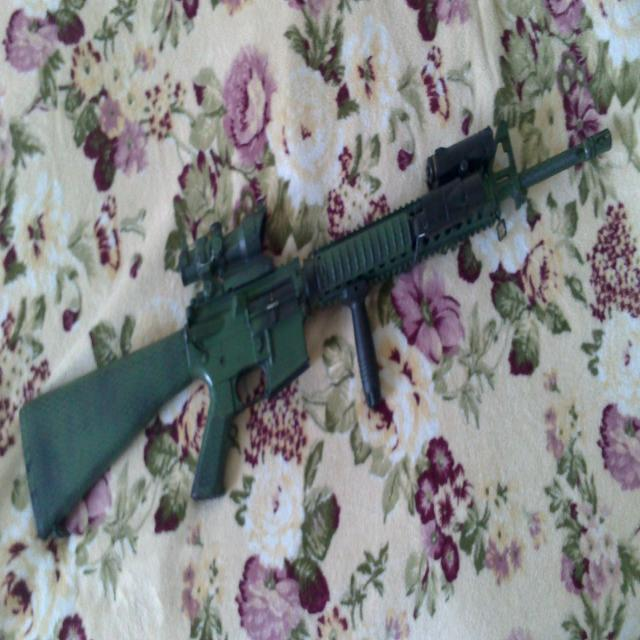firearm: (21, 117, 612, 536)
